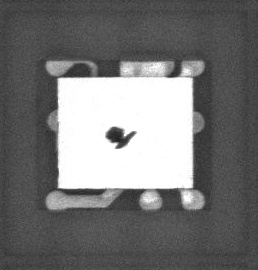DIE_INK: (100, 131, 131, 155)
